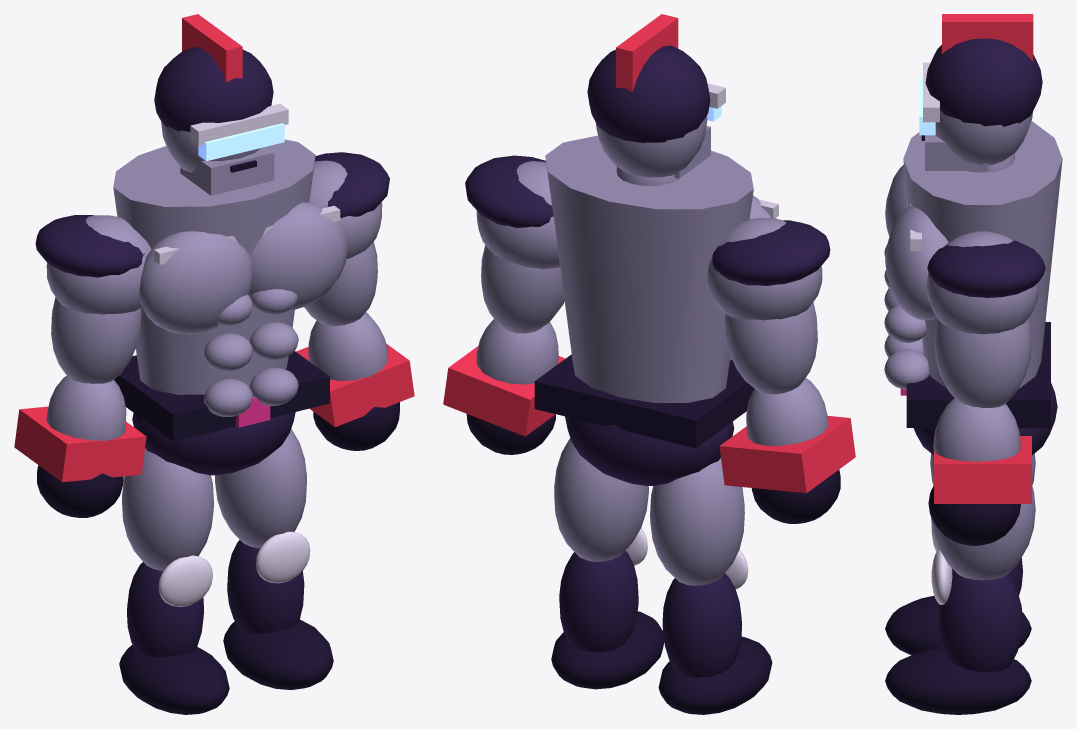
File: strong.glb
3 renders of one model, left to right at view 1: azimuth 30°, elevation 25°; view 2: azimuth 150°, elevation 25°; view 3: azimuth 270°, elevation 25°, orthographic. The views are drawn at different scales.
Parts seen in each view (by area): view 1: Torso, Pectoral_L, Thigh_L, Pectoral_R, Helmet, Thigh_R, Belt, Cosmetic_Bracer_L, Bicep_L, Boot_R, Boot_L, Pelvis (+26 smaller); view 2: Torso, Thigh_L, Belt, Helmet, Thigh_R, Shin_L, Shin_R, Cosmetic_Bracer_L, Pelvis, Bicep_L, ShoulderPlate_L, Bicep_R (+12 smaller); view 3: Torso, Helmet, Shin_R, Boot_R, Bicep_R, ShoulderPlate_R, Cosmetic_Bracer_R, Deltoid_R, Forearm_R, Pectoral_R, Belt, Thigh_R (+14 smaller).
Part boxes in pixels (x1=…): Torso: x1=113, y1=139, x2=315, y2=394; Pectoral_L: x1=139, y1=231, x2=252, y2=334; Thigh_L: x1=122, y1=448, x2=213, y2=570; Pectoral_R: x1=248, y1=202, x2=347, y2=310; Helmet: x1=154, y1=47, x2=273, y2=131; Thigh_R: x1=215, y1=429, x2=306, y2=548; Belt: x1=114, y1=351, x2=329, y2=441; Cosmetic_Bracer_L: x1=14, y1=406, x2=146, y2=482; Bicep_L: x1=51, y1=297, x2=141, y2=383; Boot_R: x1=223, y1=619, x2=333, y2=689; Boot_L: x1=119, y1=645, x2=229, y2=714; Pelvis: x1=132, y1=412, x2=295, y2=475; Torso: x1=545, y1=135, x2=753, y2=402; Thigh_L: x1=650, y1=458, x2=744, y2=585; Belt: x1=534, y1=354, x2=754, y2=448; Helmet: x1=587, y1=45, x2=710, y2=142; Thigh_R: x1=554, y1=438, x2=648, y2=561; Shin_L: x1=662, y1=573, x2=741, y2=677; Shin_R: x1=559, y1=550, x2=638, y2=652; Cosmetic_Bracer_L: x1=719, y1=416, x2=855, y2=493; Pelvis: x1=565, y1=416, x2=734, y2=485; Bicep_L: x1=724, y1=302, x2=817, y2=394; ShoulderPlate_L: x1=712, y1=220, x2=830, y2=285; Bicep_R: x1=481, y1=245, x2=564, y2=333; Torso: x1=903, y1=121, x2=1062, y2=388; Helmet: x1=925, y1=38, x2=1042, y2=126; Shin_R: x1=938, y1=571, x2=1022, y2=672; Boot_R: x1=885, y1=648, x2=1031, y2=714; Bicep_R: x1=934, y1=318, x2=1031, y2=408; ShoulderPlate_R: x1=927, y1=240, x2=1045, y2=297; Cosmetic_Bracer_R: x1=934, y1=436, x2=1031, y2=503; Deltoid_R: x1=926, y1=231, x2=1039, y2=334; Forearm_R: x1=933, y1=398, x2=1020, y2=461; Pectoral_R: x1=885, y1=205, x2=948, y2=320; Belt: x1=906, y1=322, x2=1050, y2=427; Thigh_R: x1=931, y1=485, x2=1035, y2=580.
Size of the model in its own units: 1.78 by 3.13 by 0.7616.
